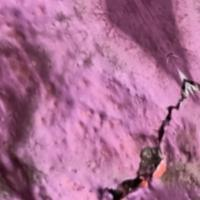crack: (64, 46, 199, 199)
